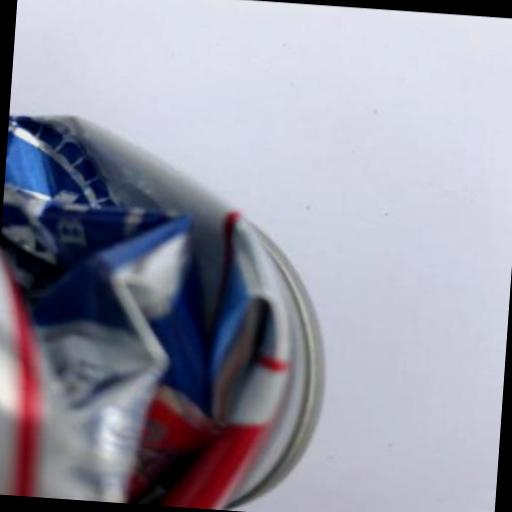metal: (0, 109, 343, 512)
